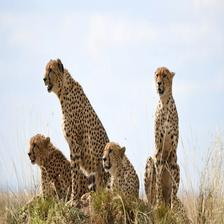Cheetah: (40, 53, 123, 209), (20, 124, 106, 219), (144, 68, 184, 215), (102, 139, 140, 221)
